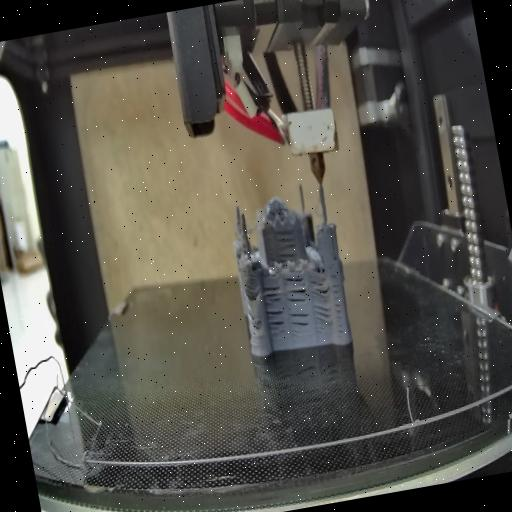cracks: (326, 270, 348, 334), (269, 220, 300, 264), (282, 270, 308, 304), (311, 302, 333, 332), (308, 271, 330, 298), (286, 306, 310, 330), (260, 278, 282, 304), (266, 306, 286, 334)
